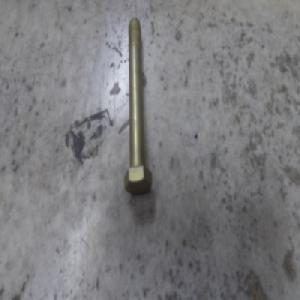Bolt: (125, 23, 152, 198)
